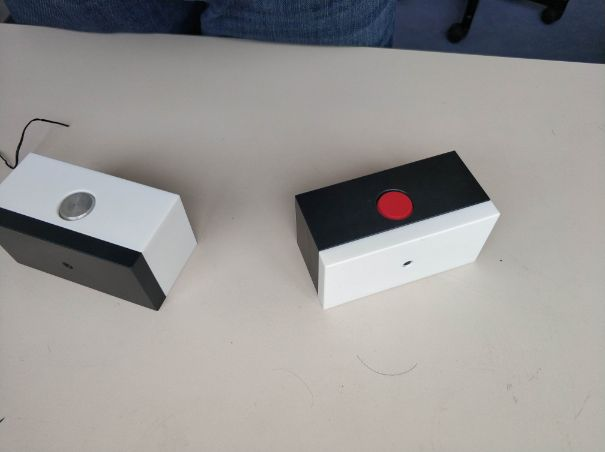black+white+silver: (1, 150, 201, 314)
white+black+red: (292, 148, 503, 309)
